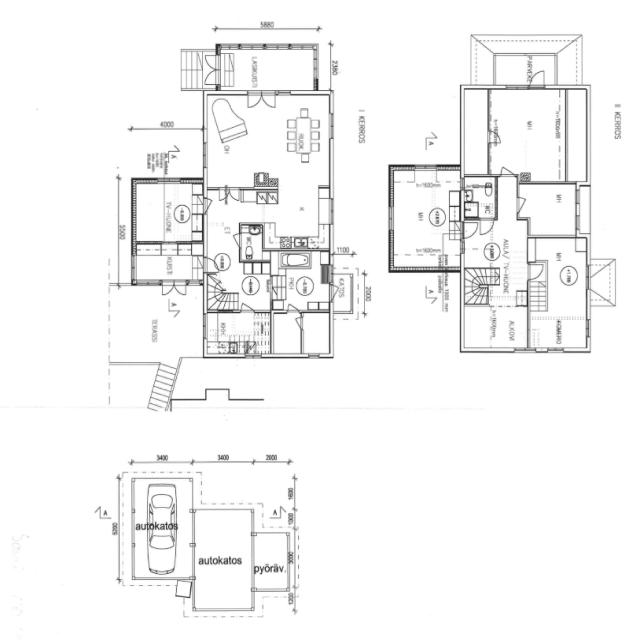door: (246, 90, 274, 112), (526, 261, 546, 282), (326, 282, 346, 303), (528, 69, 547, 90), (515, 195, 530, 220), (260, 89, 277, 111), (202, 68, 220, 87), (462, 219, 479, 239), (478, 216, 494, 237), (225, 186, 243, 203), (172, 279, 188, 297), (203, 52, 219, 70), (498, 164, 516, 179), (486, 130, 501, 146), (161, 280, 174, 296), (239, 301, 255, 314), (286, 302, 301, 315), (293, 316, 305, 330), (233, 232, 243, 246)
window: (573, 192, 582, 235), (286, 88, 319, 98), (327, 195, 337, 227), (502, 82, 530, 93), (386, 204, 396, 234), (326, 111, 336, 141), (200, 139, 209, 170), (238, 41, 264, 51), (134, 279, 162, 288), (412, 163, 438, 172), (201, 313, 209, 341), (129, 254, 137, 282), (154, 177, 182, 185), (312, 55, 320, 81), (513, 346, 536, 355), (288, 43, 313, 51), (544, 346, 566, 355), (218, 42, 240, 51), (585, 318, 593, 339), (307, 352, 322, 360)
zone: (207, 94, 331, 188), (488, 87, 566, 181), (391, 168, 462, 270), (528, 237, 588, 352), (193, 508, 253, 612), (250, 187, 330, 253), (219, 48, 318, 92), (133, 182, 204, 243), (134, 131, 205, 180), (461, 300, 530, 350), (520, 182, 579, 238), (207, 265, 276, 312), (280, 252, 330, 314), (133, 243, 203, 283), (205, 312, 271, 354), (460, 90, 490, 176), (110, 362, 160, 410), (253, 532, 292, 593), (259, 465, 294, 528), (462, 177, 497, 220), (148, 485, 176, 537), (301, 312, 331, 356), (272, 312, 302, 356), (331, 269, 353, 313), (240, 223, 264, 262)
